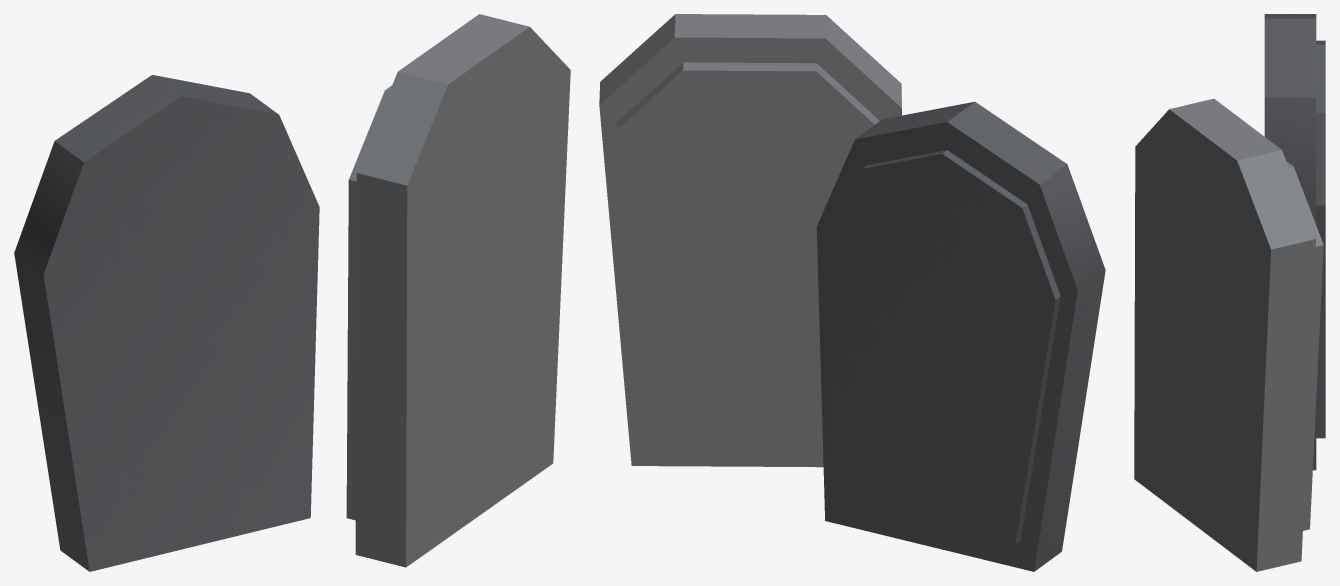
Rendered from Lapides_Base.fbx.
The picture shows the model from 3 angles, left to right: view 1: azimuth 30°, elevation 25°; view 2: azimuth 150°, elevation 25°; view 3: azimuth 270°, elevation 25°; orthographic projection. The views are drawn at different scales.
Visible parts, largest first — view 1: Lapides; view 2: Lapides; view 3: Lapides.
Part boxes in pixels (x1,y1,x2,y2): Lapides: (14,14,570,571); Lapides: (599,14,1105,571); Lapides: (1134,14,1325,571).
Bounding box in the file's own units: 71.68 × 58.49 × 25.58.
